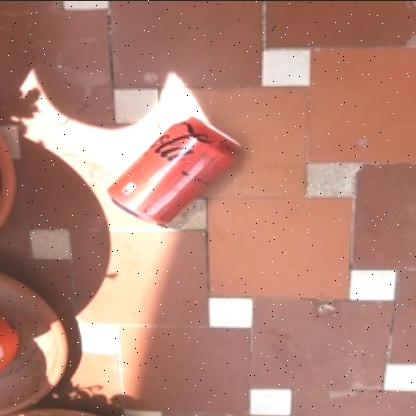Can: (108, 115, 244, 224)
